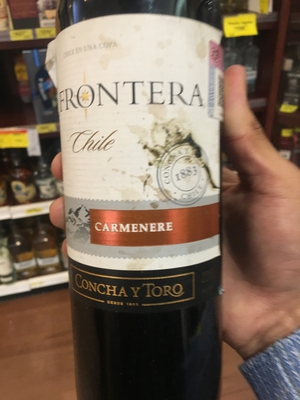frontera carmenere: (44, 5, 237, 375)
